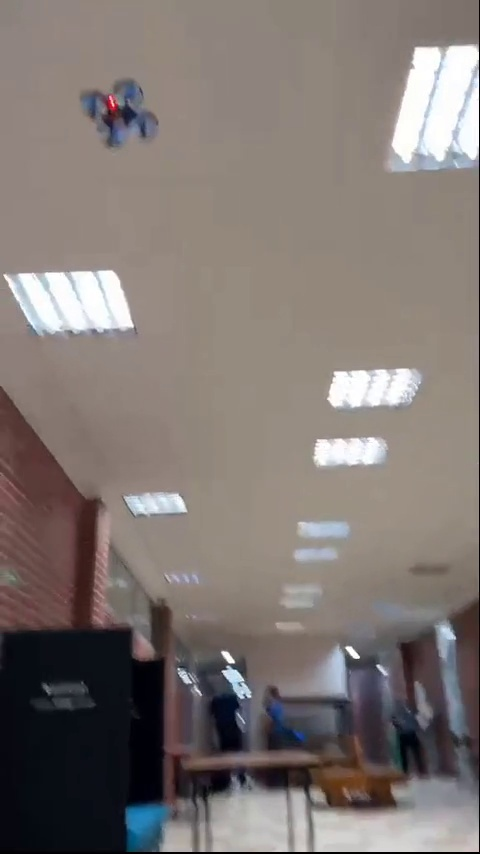drone: (77, 82, 161, 145)
no vest: (210, 689, 248, 787), (394, 700, 435, 773), (262, 677, 298, 746)
